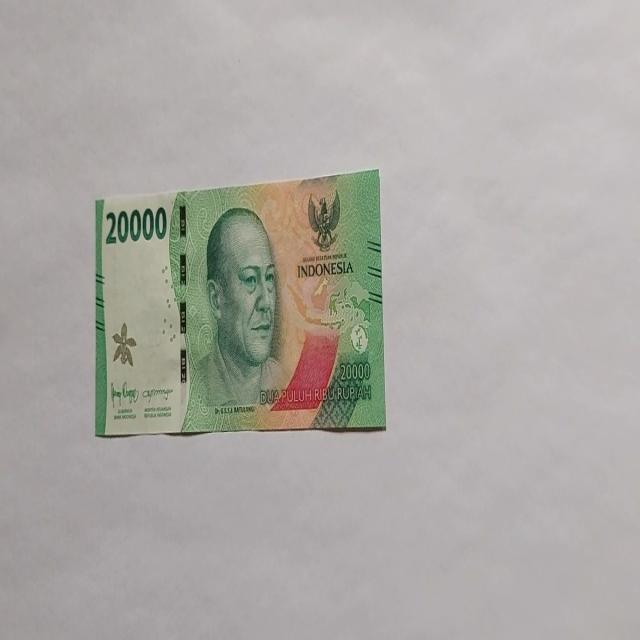dua puluh ribu rupiah: (94, 167, 386, 437), (192, 204, 288, 416)
